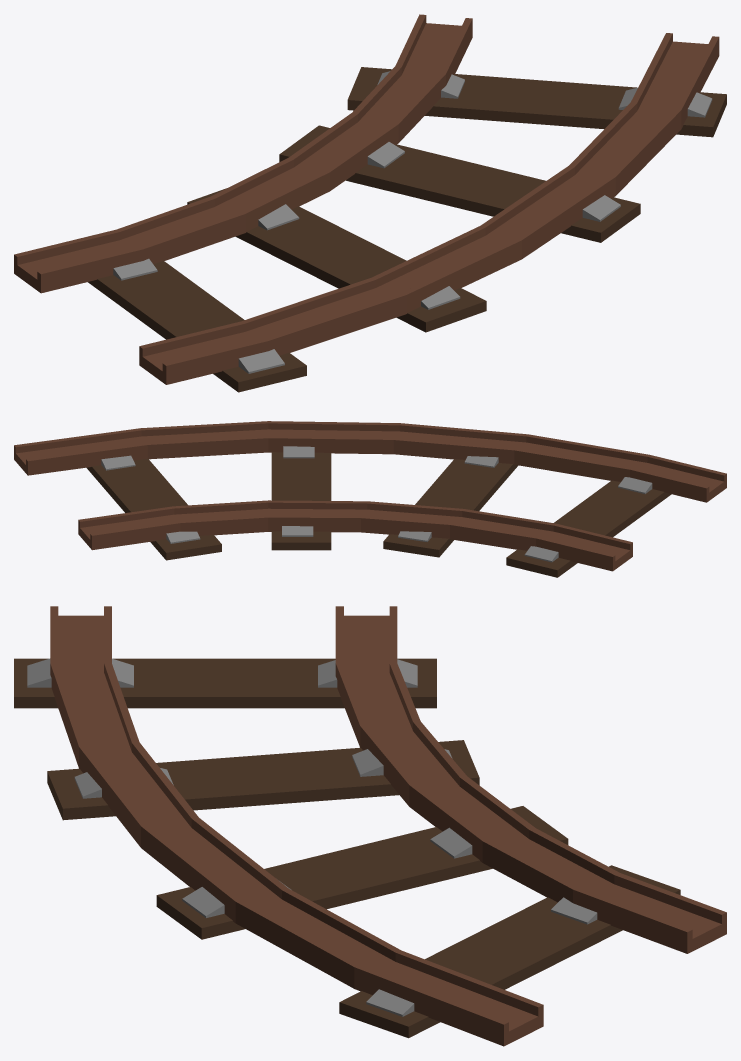
Rendered from Rail mine 2.fbx.
3 renders of one model, top to bottom at view 1: azimuth 30°, elevation 25°; view 2: azimuth 150°, elevation 25°; view 3: azimuth 270°, elevation 25°, orthographic. The views are drawn at different scales.
Parts seen in each view (by area): view 1: rail droit 1, planche rail 3.006, planche rail 3.007, planche rail 3.008, planche rail 3.009, soutien rail 1.040, soutien rail 1.032, soutien rail 1.038, soutien rail 1.045; view 2: rail droit 1, planche rail 3.009, planche rail 3.006, planche rail 3.008, planche rail 3.007, soutien rail 1.034, soutien rail 1.042, soutien rail 1.048, soutien rail 1.041, soutien rail 1.046, soutien rail 1.031, soutien rail 1.035 (+1 smaller); view 3: rail droit 1, planche rail 3.009, planche rail 3.008, planche rail 3.007, planche rail 3.006, soutien rail 1.032, soutien rail 1.047, soutien rail 1.045.
Boxes of the visible parts, x1,y1,x2,y2 form: rail droit 1: (14,14,719,384); planche rail 3.006: (347,67,726,137); planche rail 3.007: (279,125,640,242); planche rail 3.008: (187,188,486,332); planche rail 3.009: (88,260,306,392); soutien rail 1.040: (238,349,284,373); soutien rail 1.032: (582,195,620,221); soutien rail 1.038: (258,204,299,230); soutien rail 1.045: (367,142,404,168); rail droit 1: (14,421,726,571); planche rail 3.009: (506,480,671,577); planche rail 3.006: (86,459,221,560); planche rail 3.008: (383,459,518,557); planche rail 3.007: (271,452,331,550); soutien rail 1.034: (283,446,314,458); soutien rail 1.042: (618,477,652,493); soutien rail 1.048: (101,455,135,470); soutien rail 1.041: (524,546,558,562); soutien rail 1.046: (282,526,313,536); soutien rail 1.031: (166,531,200,543); soutien rail 1.035: (464,456,498,467); rail droit 1: (50,606,726,1046); planche rail 3.009: (14,658,436,708); planche rail 3.008: (47,740,479,820); planche rail 3.007: (156,806,568,939); planche rail 3.006: (339,865,680,1038); soutien rail 1.032: (182,887,224,917); soutien rail 1.047: (366,989,414,1016); soutien rail 1.045: (430,827,472,858).
Size of the model in its own units: 1254 by 45.54 by 903.
